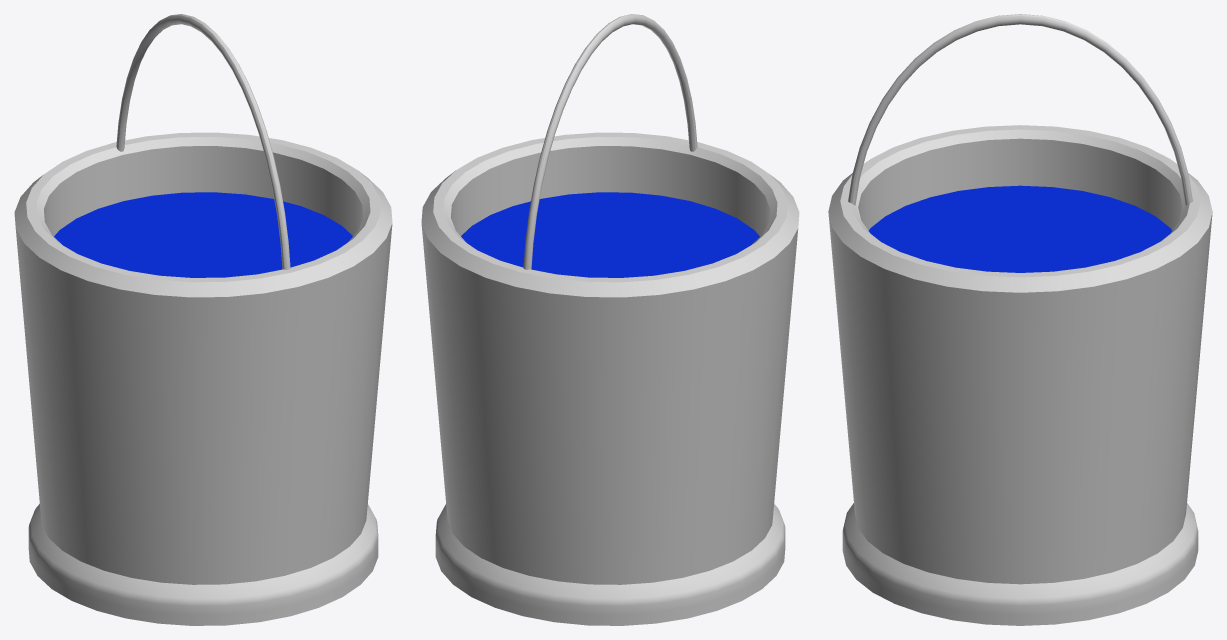
File: Bucket.fbx
3 views of the same model, side by side, from view 1: azimuth 30°, elevation 25°; view 2: azimuth 150°, elevation 25°; view 3: azimuth 270°, elevation 25° (orthographic).
Parts seen in each view (by area): view 1: Bucket; view 2: Bucket; view 3: Bucket.
Boxes of the visible parts, left/top/right/bottom form: Bucket: left=14, top=14, right=392, bottom=625; Bucket: left=421, top=14, right=799, bottom=625; Bucket: left=828, top=14, right=1212, bottom=625.
Size of the model in its own units: 95.87 by 148 by 95.87.
